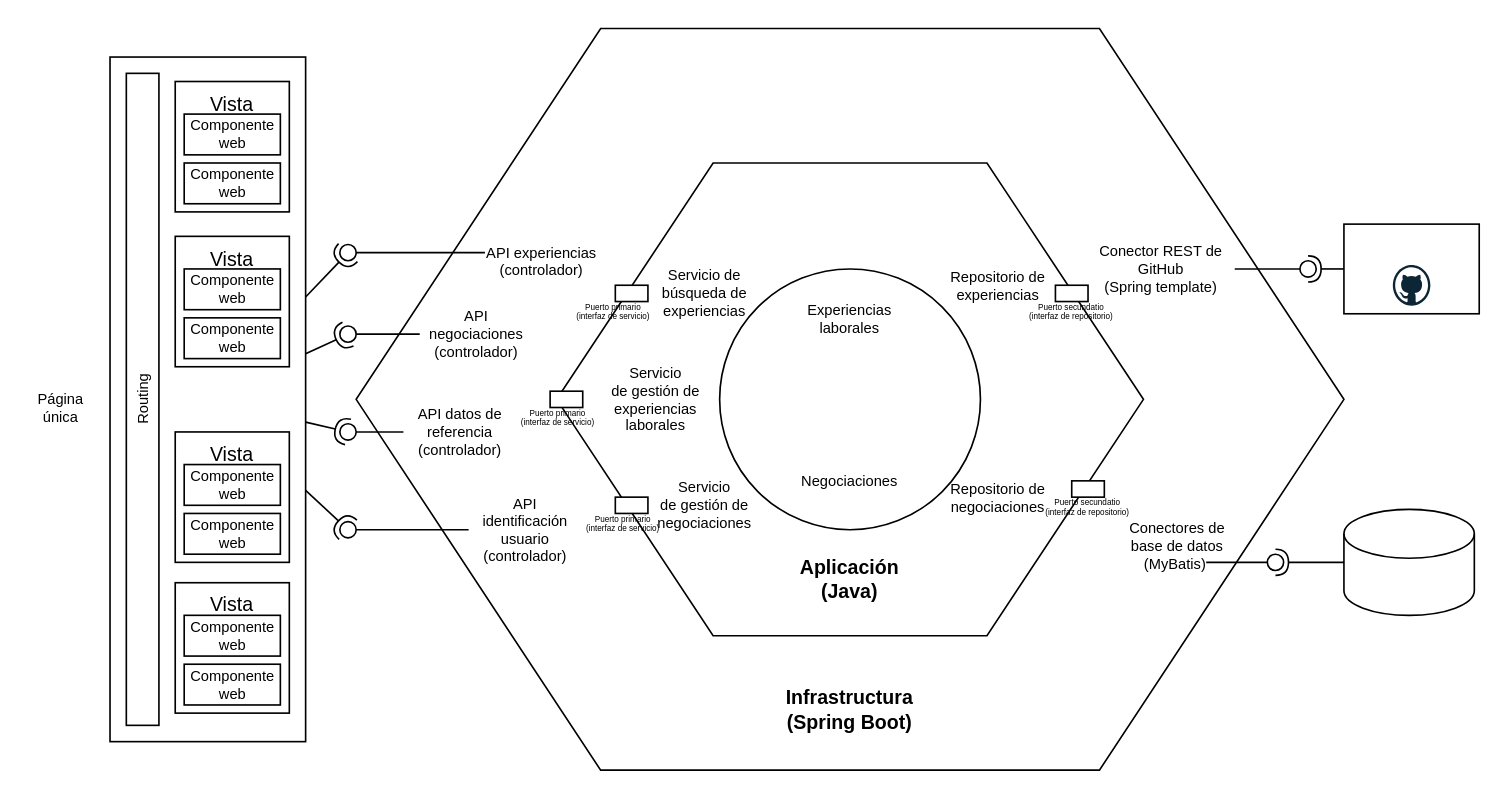
Some shapes in this 1508 by 799 pixel diagram are drawn without their labels. The shapes that lost their labels are listed below. From the top down, each one's box as (x1, y1, x2, y2) in pixels, then its label:
(1342, 222, 1479, 314): Github
(108, 55, 306, 742): Aplicación web
(718, 267, 980, 530): Modelo de dominio (entidades)
(1342, 508, 1474, 615): Protic DB (H2 SQL)
